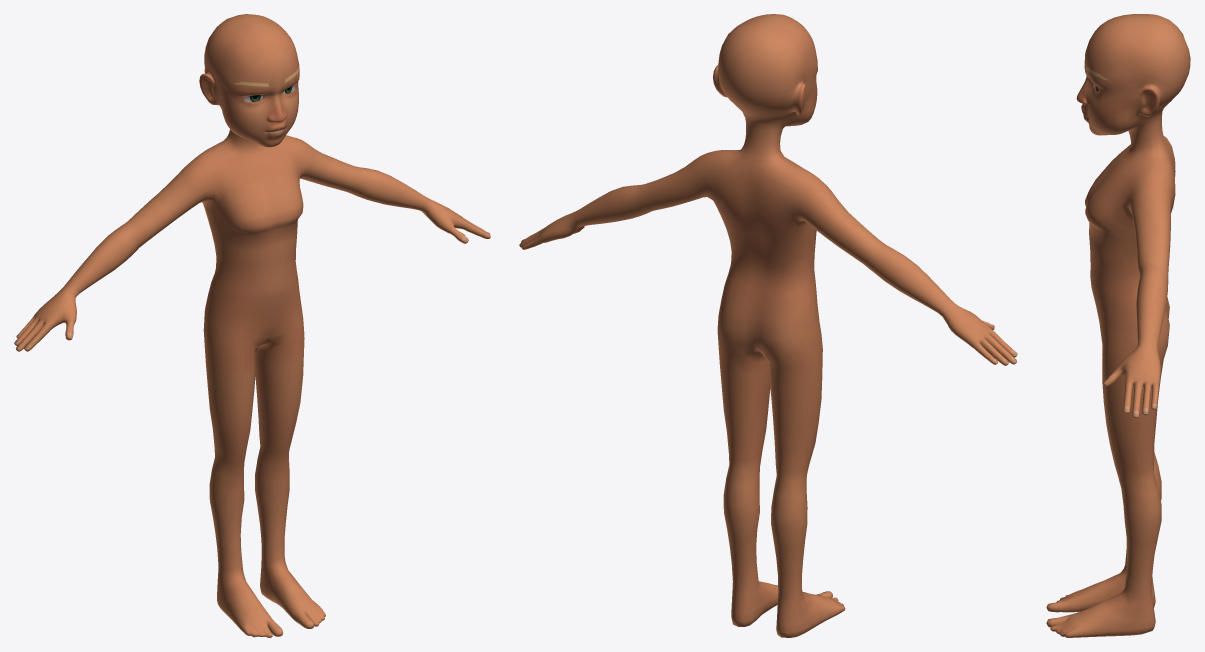
The model's file is frame_0052.glb.
The picture shows the model from 3 angles, left to right: view 1: azimuth 30°, elevation 25°; view 2: azimuth 150°, elevation 25°; view 3: azimuth 270°, elevation 25°; orthographic projection. The views are drawn at different scales.
Parts seen in each view (by area): view 1: frame_0052_head_geo; view 2: frame_0052_head_geo; view 3: frame_0052_head_geo.
Part boxes in pixels (left/top/right/bottom): frame_0052_head_geo: left=14, top=14, right=490, bottom=637; frame_0052_head_geo: left=519, top=14, right=1017, bottom=637; frame_0052_head_geo: left=1046, top=14, right=1190, bottom=637.
Bounding box in the file's own units: 1.28 × 1.5 × 0.3253.
Materials: 3 (3 with a texture image).
